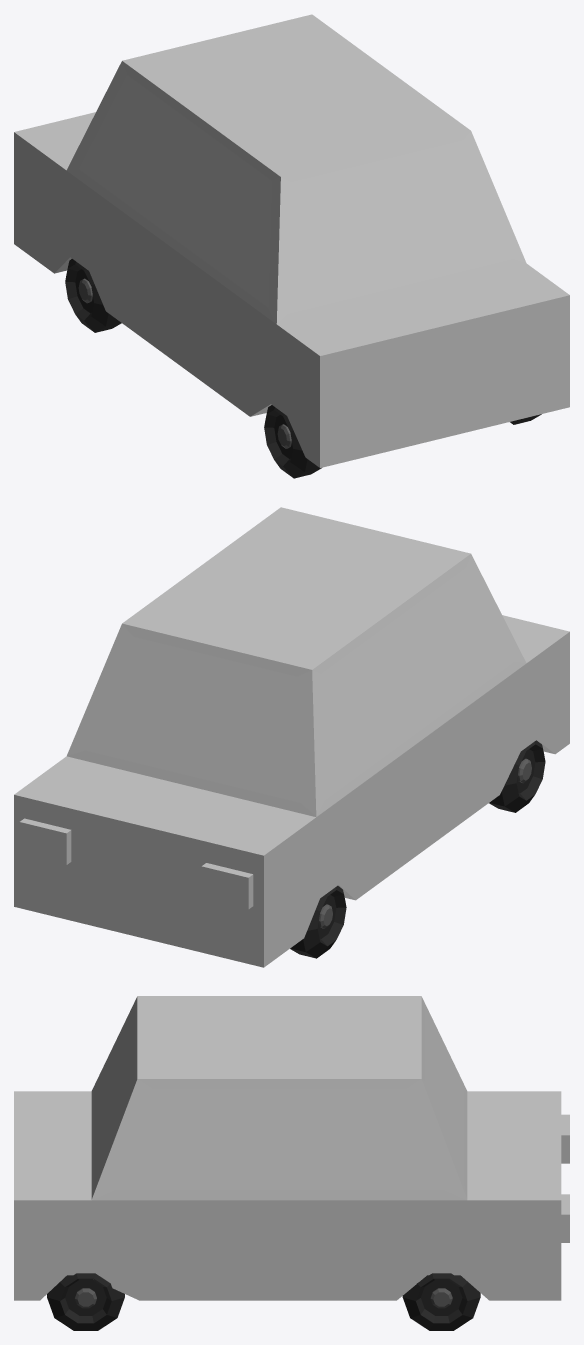
The model's file is Car_B.fbx.
3 renders of one model, top to bottom at view 1: azimuth 30°, elevation 25°; view 2: azimuth 150°, elevation 25°; view 3: azimuth 270°, elevation 25°, orthographic. The views are drawn at different scales.
Parts seen in each view (by area): view 1: Car_Green; view 2: Car_Green; view 3: Car_Green.
Part boxes in pixels (x1=…): Car_Green: x1=14, y1=14, x2=569, y2=478; Car_Green: x1=14, y1=507, x2=569, y2=967; Car_Green: x1=14, y1=996, x2=569, y2=1330.
Size of the model in its own units: 0.1504 by 0.1526 by 0.3185.
